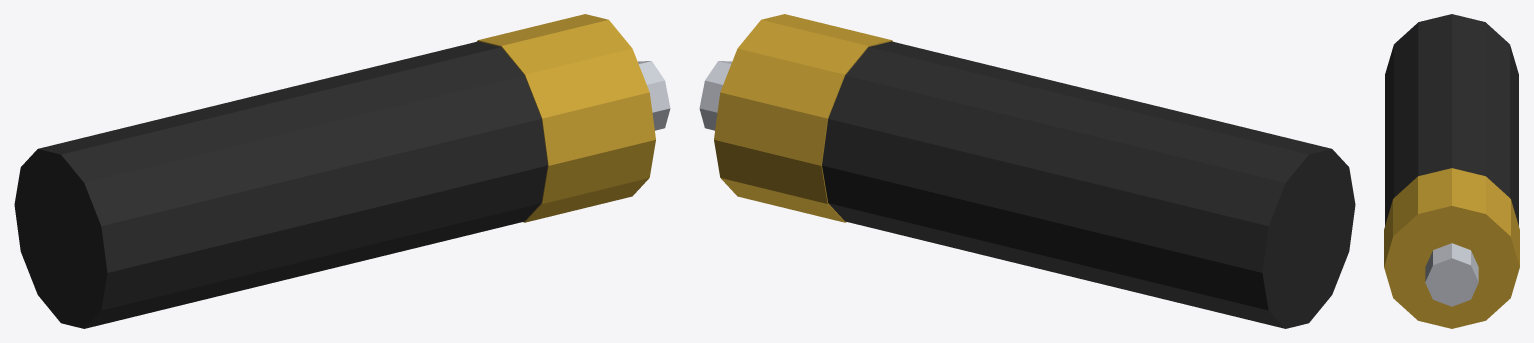
The model's file is battery.fbx.
3 views of the same model, side by side, from view 1: azimuth 30°, elevation 25°; view 2: azimuth 150°, elevation 25°; view 3: azimuth 270°, elevation 25° (orthographic). The views are drawn at different scales.
Visible parts, largest first — view 1: battery; view 2: battery; view 3: battery.
Part boxes in pixels (bbox=[...]): battery: bbox=[14, 14, 670, 328]; battery: bbox=[699, 14, 1355, 328]; battery: bbox=[1384, 14, 1519, 328].
Bounding box in the file's own units: 0.055 × 0.0152 × 0.0152.
